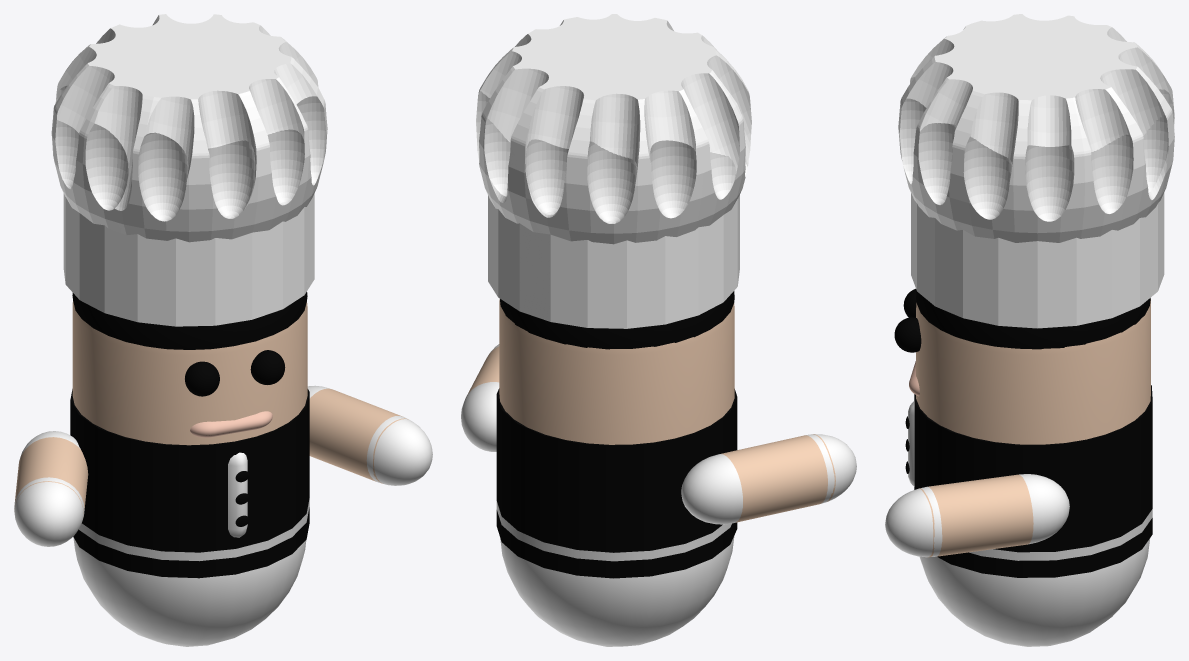
The model's file is chef2.fbx.
3 views of the same model, side by side, from view 1: azimuth 30°, elevation 25°; view 2: azimuth 150°, elevation 25°; view 3: azimuth 270°, elevation 25° (orthographic).
Visible parts, largest first — view 1: Object.001, Shirt.003, Body.004, Shorts, Hair.003, LeftArm, Shirt_Hem, RightGlove, LeftGlove, RightArm, Lower_Shirt, Buttons.001 (+3 smaller); view 2: Object.001, Shirt.003, Body.004, Shorts, RightArm, Hair.003, Shirt_Hem, RightSleeve, Lower_Shirt, LeftSleeve, RightGlove, LeftArm; view 3: Object.001, Body.004, Shirt.003, Shorts, LeftArm, Hair.003, Shirt_Hem, LeftGlove, LeftSleeve, Lower_Shirt, LeftEye.004, Buttons.001.
Boxes of the visible parts, left/top/right/bottom form: Object.001: left=51, top=14, right=327, bottom=326; Shirt.003: left=70, top=389, right=309, bottom=552; Body.004: left=72, top=301, right=307, bottom=445; Shorts: left=73, top=537, right=306, bottom=646; Hair.003: left=72, top=292, right=307, bottom=349; LeftArm: left=309, top=388, right=408, bottom=483; Shirt_Hem: left=73, top=507, right=309, bottom=578; RightGlove: left=14, top=477, right=84, bottom=546; LeftGlove: left=366, top=416, right=432, bottom=485; RightArm: left=14, top=437, right=88, bottom=513; Lower_Shirt: left=79, top=498, right=309, bottom=561; Buttons.001: left=228, top=452, right=247, bottom=537; Object.001: left=476, top=14, right=751, bottom=328; Shirt.003: left=496, top=388, right=737, bottom=552; Body.004: left=499, top=299, right=734, bottom=444; Shorts: left=500, top=536, right=734, bottom=646; RightArm: left=721, top=434, right=835, bottom=522; Hair.003: left=500, top=291, right=734, bottom=349; Shirt_Hem: left=496, top=510, right=737, bottom=578; RightSleeve: left=681, top=454, right=742, bottom=524; Lower_Shirt: left=496, top=501, right=731, bottom=561; LeftSleeve: left=461, top=382, right=499, bottom=451; RightGlove: left=806, top=434, right=856, bottom=503; LeftArm: left=466, top=345, right=499, bottom=396; Object.001: left=898, top=14, right=1174, bottom=328; Body.004: left=916, top=299, right=1150, bottom=444; Shirt.003: left=914, top=385, right=1152, bottom=552; Shorts: left=919, top=538, right=1150, bottom=646; LeftArm: left=919, top=474, right=1033, bottom=557; Hair.003: left=916, top=291, right=1150, bottom=349; Shirt_Hem: left=937, top=518, right=1152, bottom=577; LeftGlove: left=885, top=486, right=942, bottom=557; LeftSleeve: left=1019, top=474, right=1069, bottom=544; Lower_Shirt: left=969, top=509, right=1152, bottom=560; LeftEye.004: left=894, top=317, right=921, bottom=352; Buttons.001: left=908, top=401, right=914, bottom=486.
Size of the model in its own units: 188 by 271 by 123.
